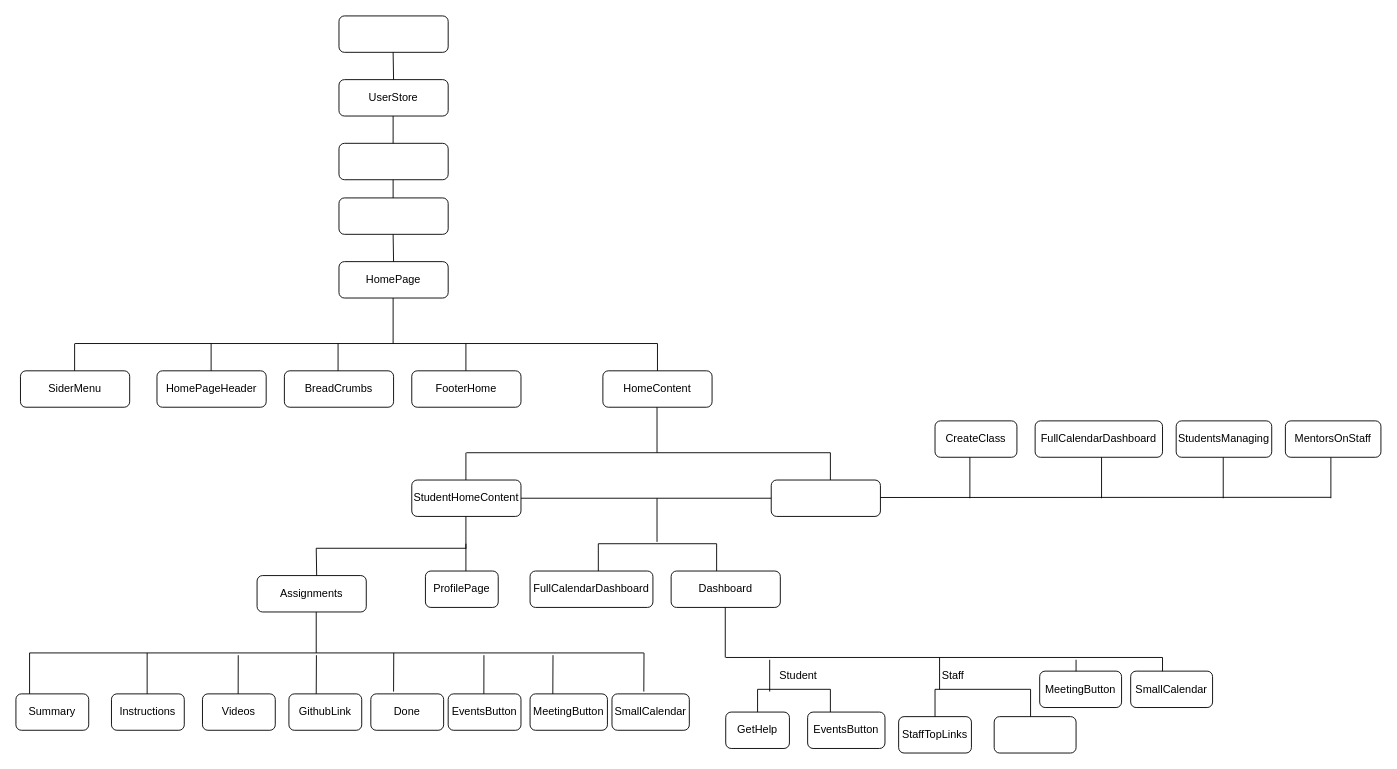
Image size: 1397x769. Some labels were removed from this diagram. Here are the shapes that lost their labels. From the top down, the box of each, then its label:
(338, 15, 448, 52): AuthStore
(338, 142, 448, 180): CalendarStore
(338, 197, 448, 234): App
(770, 479, 880, 516): StaffHomeContent
(993, 716, 1076, 753): CurrentCourses
